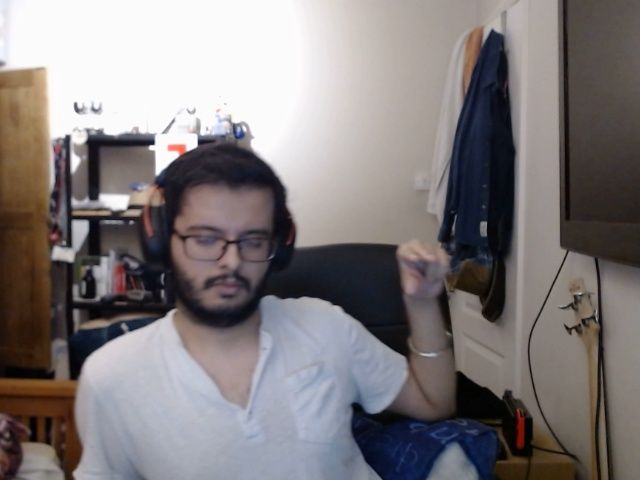No: (394, 237, 454, 306)
